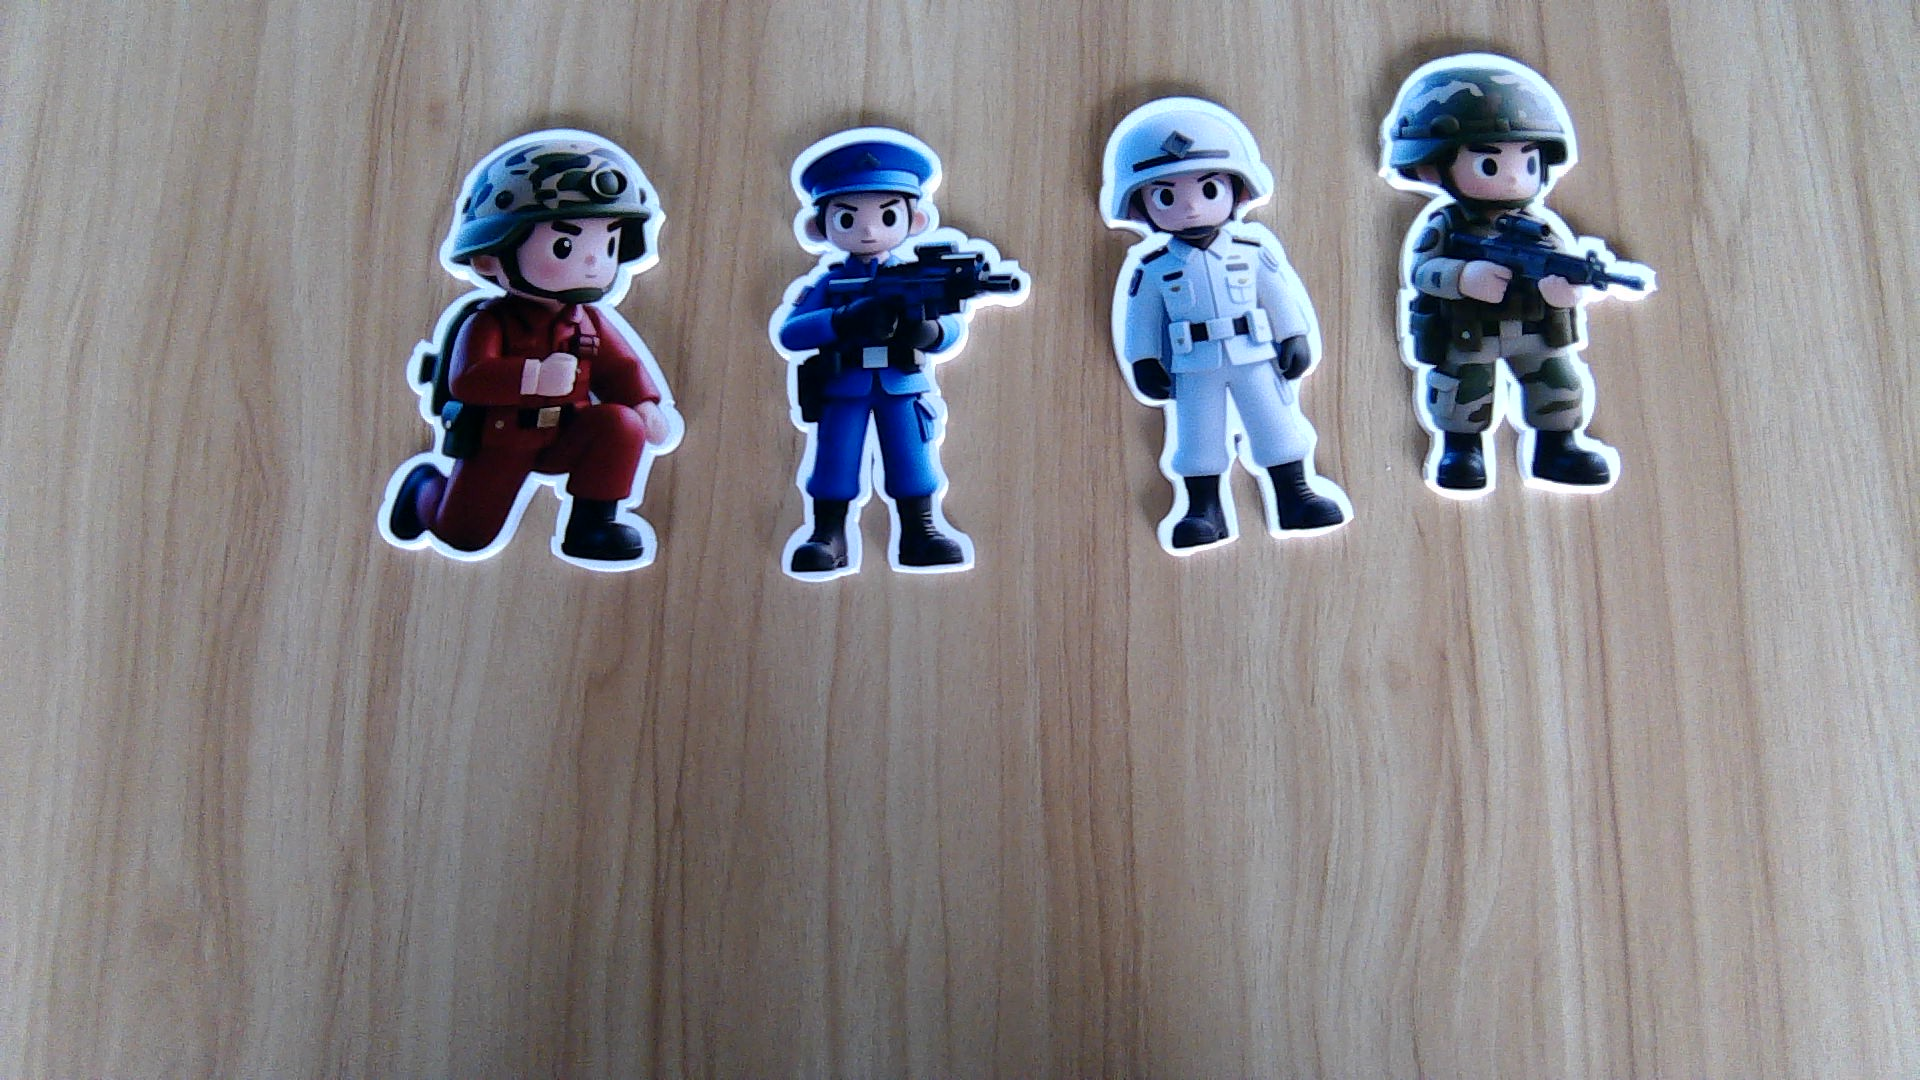人质: (1102, 233, 1364, 558)
友军: (1389, 200, 1667, 513)
敌人1: (375, 303, 692, 582)
敌人2: (764, 255, 1034, 585)
